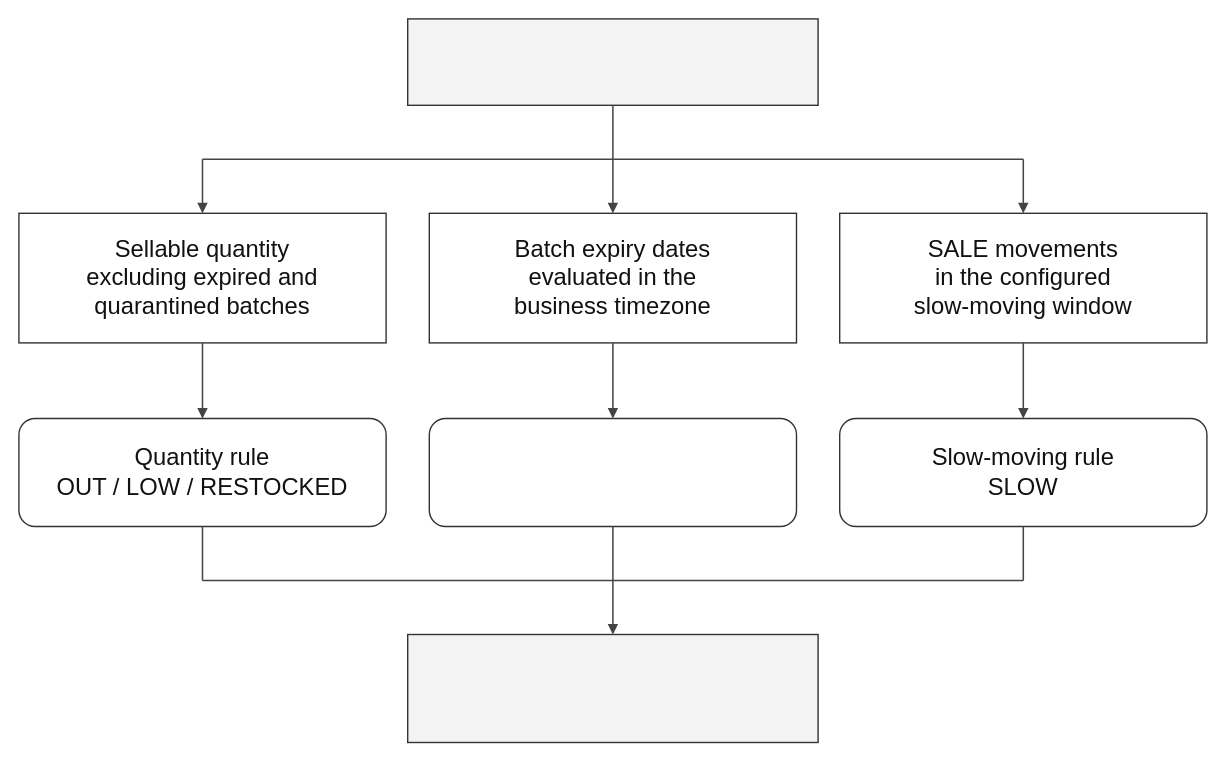
The diagram is 1227 pixels wide and 762 high, and some of its shapes have lost their labels. The box of each missing label's shape, as (x1, y1, x2, y2) in pixels:
Expiry rule EXPIRING / EXPIRED: (428, 417, 797, 527)
Persisted warning episodes type, state and reviewer: (407, 633, 818, 743)
Product, batch and movement records: (407, 18, 818, 106)
